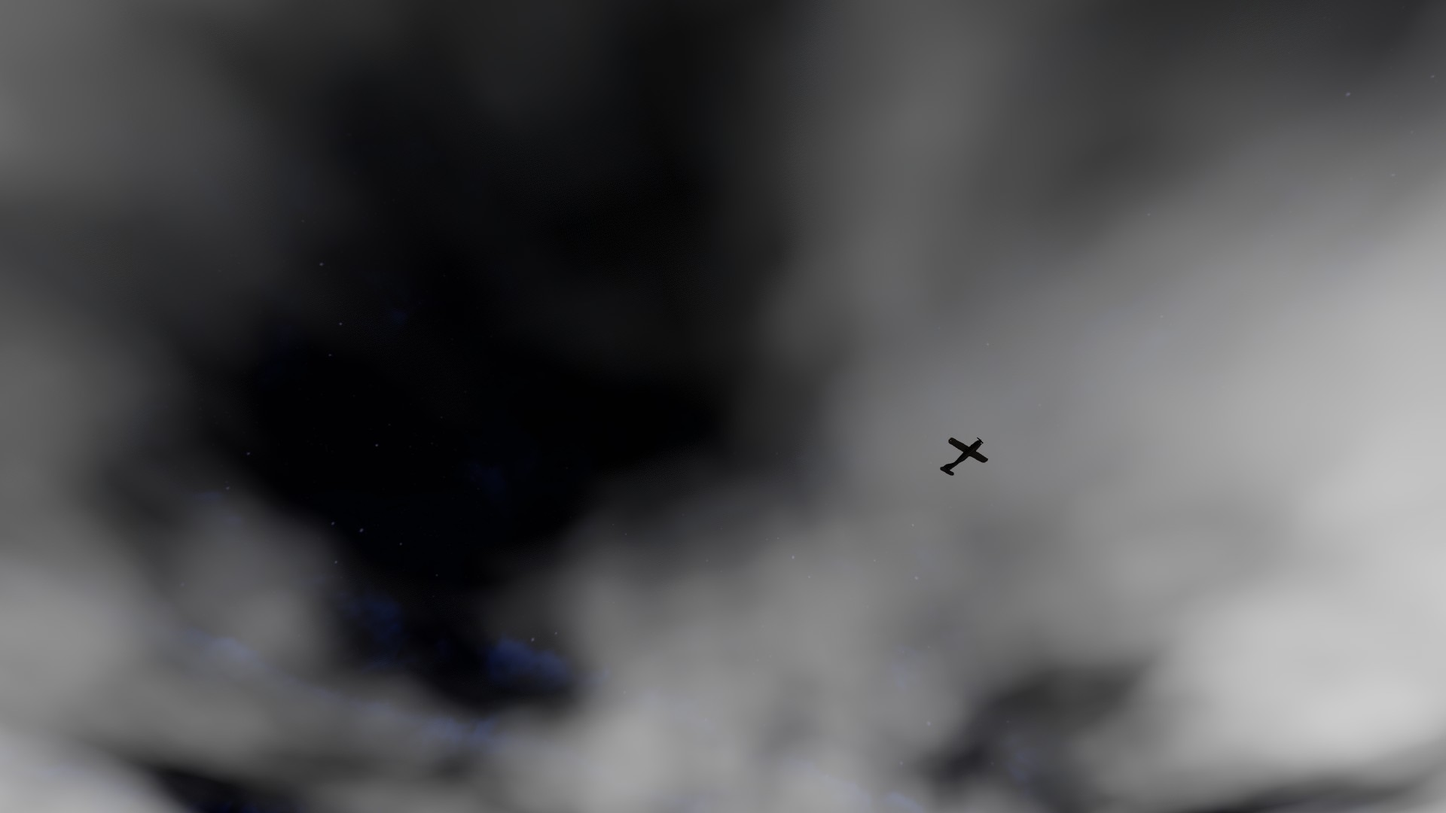drone_other: (940, 437, 988, 476)
